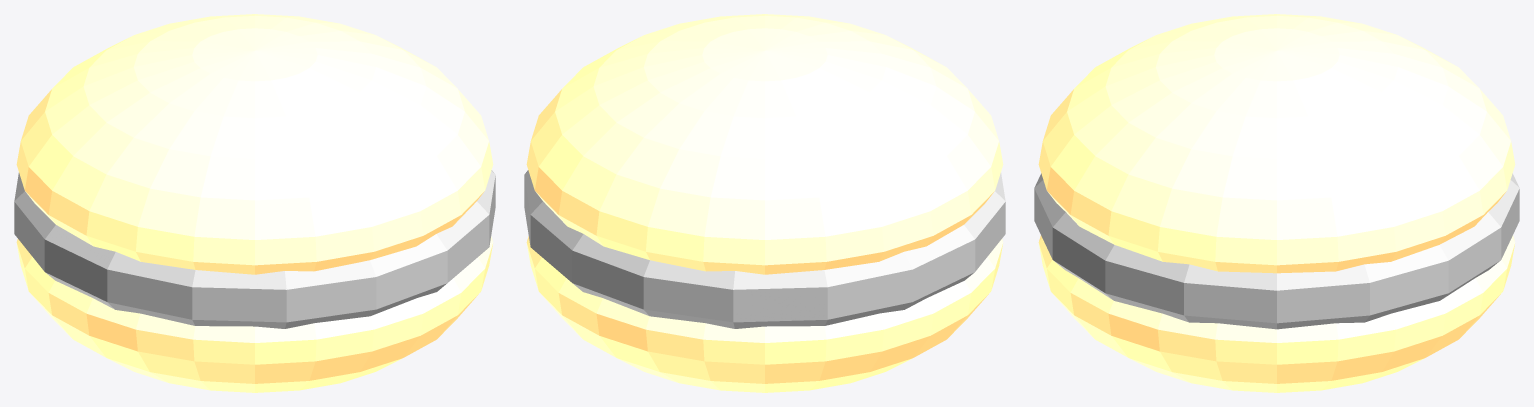
Rendered from Macaron_V2.fbx.
3 renders of one model, left to right at view 1: azimuth 30°, elevation 25°; view 2: azimuth 150°, elevation 25°; view 3: azimuth 270°, elevation 25°, orthographic.
Parts seen in each view (by area): view 1: TopBun, CreamFilling, BottomBun; view 2: TopBun, CreamFilling, BottomBun; view 3: TopBun, CreamFilling, BottomBun.
Part boxes in pixels (x1,y1,x2,y2): TopBun: (16,14,493,274); CreamFilling: (14,170,495,328); BottomBun: (16,236,493,392); TopBun: (526,14,1003,274); CreamFilling: (524,170,1005,328); BottomBun: (526,236,1003,392); TopBun: (1038,14,1515,273); CreamFilling: (1034,173,1519,329); BottomBun: (1038,235,1515,392).
Bounding box in the file's own units: 162 × 113 × 162.
